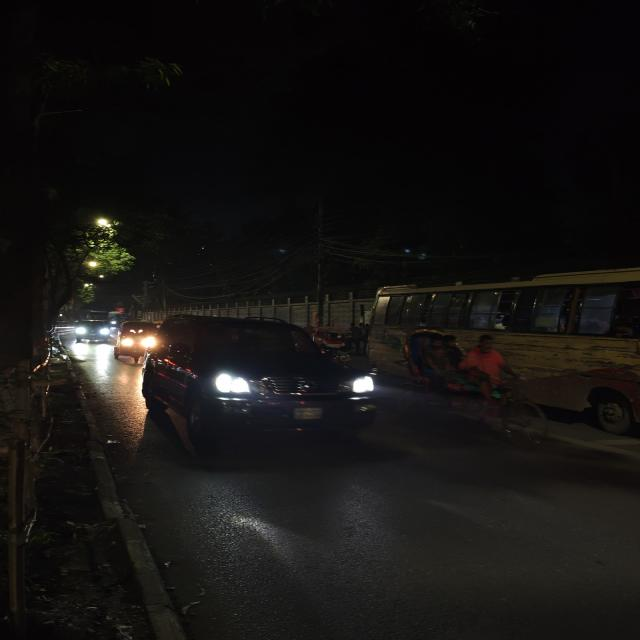bus: (352, 258, 640, 452)
car: (132, 312, 380, 449), (73, 318, 115, 346)
cng: (112, 320, 156, 364)
rickshaw: (395, 325, 545, 439)
